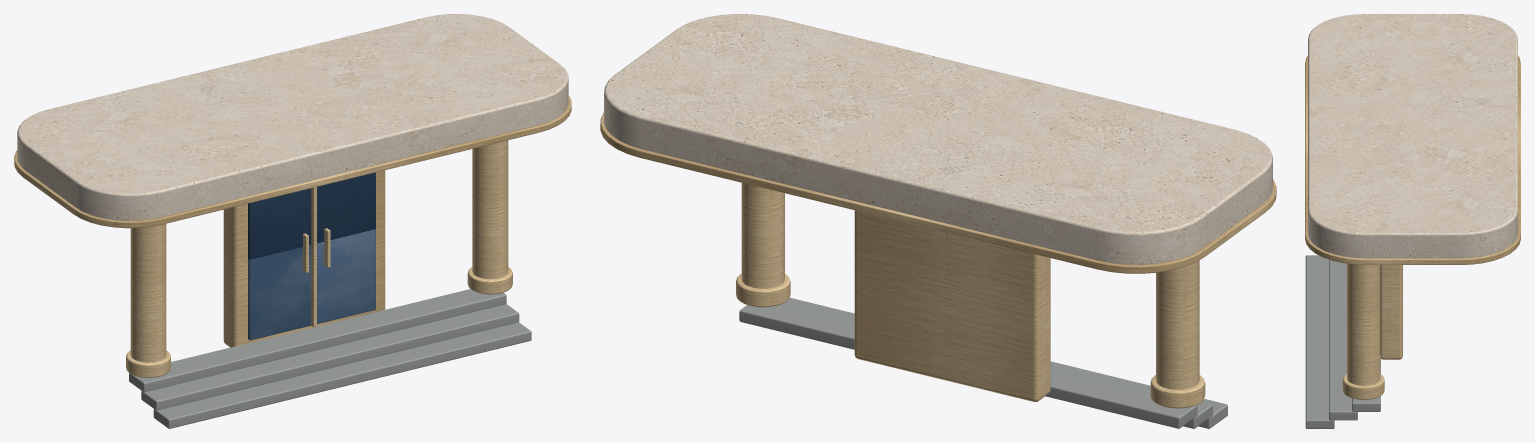
File: entrance.glb
3 views of the same model, side by side, from view 1: azimuth 30°, elevation 25°; view 2: azimuth 150°, elevation 25°; view 3: azimuth 270°, elevation 25° (orthographic). The views are drawn at different scales.
Parts seen in each view (by area): view 1: entrance; view 2: entrance; view 3: entrance.
Part boxes in pixels (x1,y1,x2,y2): entrance: [14, 14, 571, 428]; entrance: [600, 14, 1276, 428]; entrance: [1305, 14, 1520, 428].
Bounding box in the file's own units: 3.64 × 1.7 × 1.49.
Materials: 5 (3 with a texture image).
